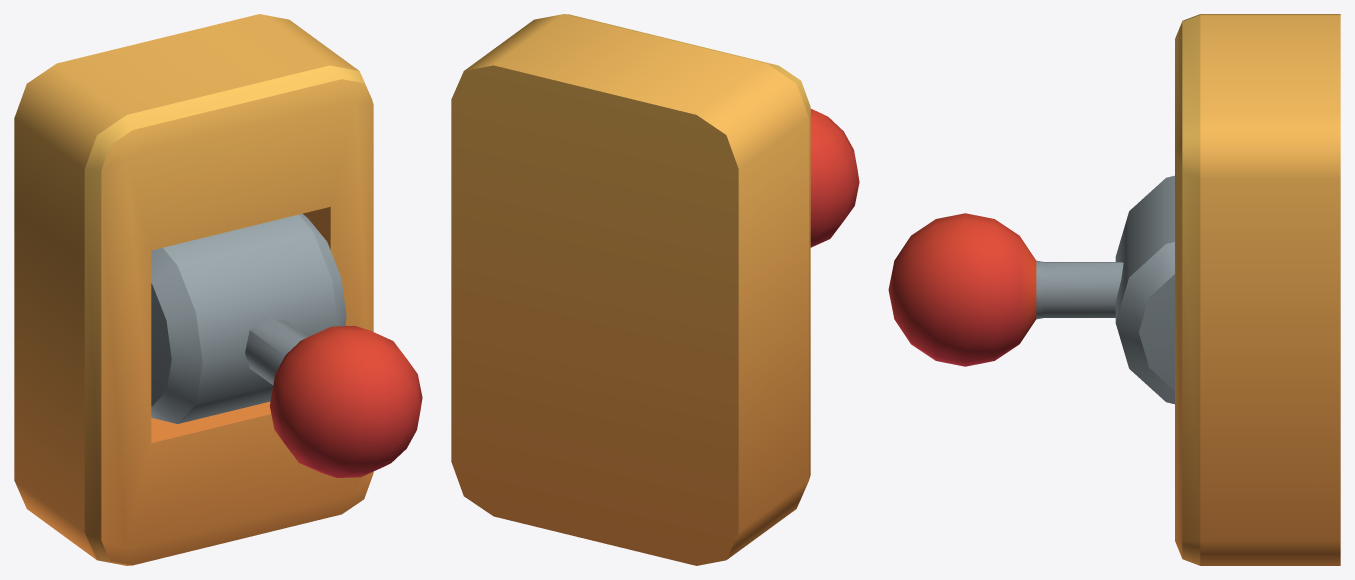
File: lever_wall_base_A_yellow.glb
3 views of the same model, side by side, from view 1: azimuth 30°, elevation 25°; view 2: azimuth 150°, elevation 25°; view 3: azimuth 270°, elevation 25° (orthographic).
Parts seen in each view (by area): view 1: lever_wall_base_A_yellow, lever_wall_A_yellow; view 2: lever_wall_base_A_yellow, lever_wall_A_yellow; view 3: lever_wall_base_A_yellow, lever_wall_A_yellow.
Part boxes in pixels (bbox=[...]): lever_wall_base_A_yellow: bbox=[14, 14, 373, 565]; lever_wall_A_yellow: bbox=[151, 213, 422, 477]; lever_wall_base_A_yellow: bbox=[451, 14, 810, 565]; lever_wall_A_yellow: bbox=[810, 109, 859, 247]; lever_wall_base_A_yellow: bbox=[1175, 14, 1340, 565]; lever_wall_A_yellow: bbox=[888, 175, 1174, 404].
Bounding box in the file's own units: 0.8 × 1.2 × 1.09.
1 material, 1 textured.
